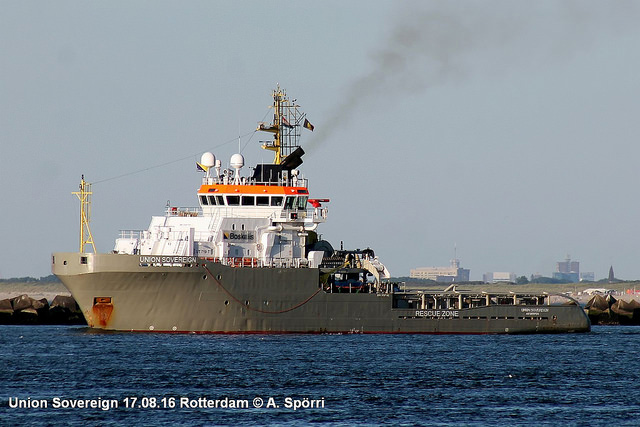tug_boat: (50, 108, 595, 348)
